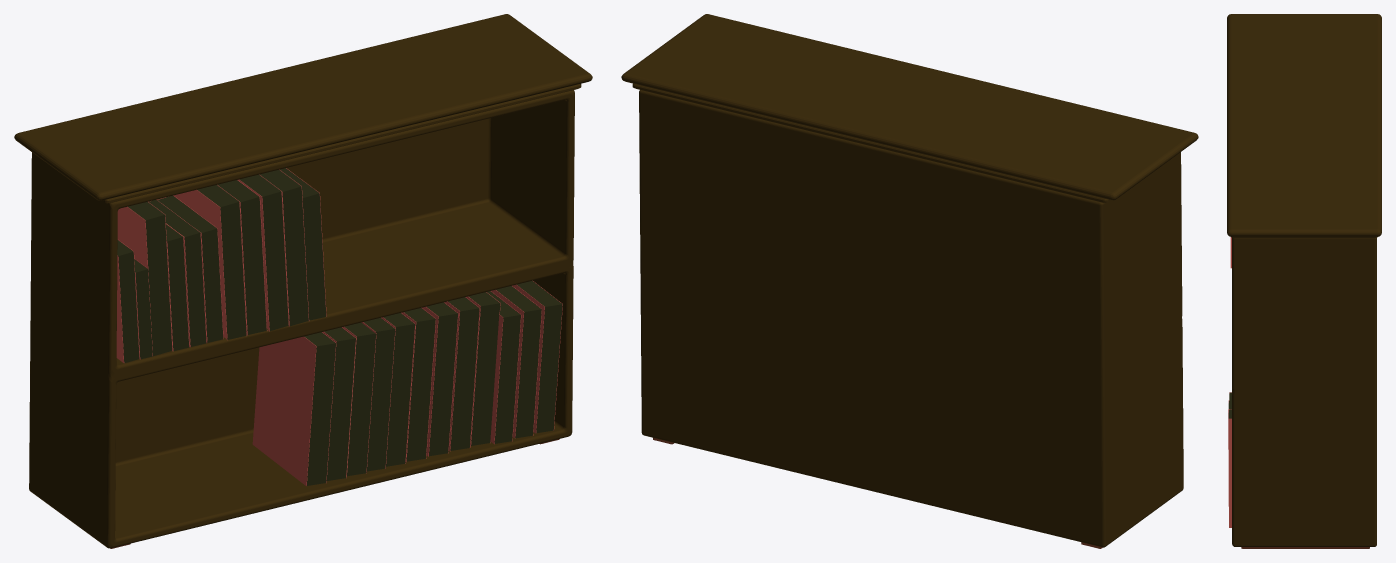
Rendered from bookshelf_active.glb.
3 renders of one model, left to right at view 1: azimuth 30°, elevation 25°; view 2: azimuth 150°, elevation 25°; view 3: azimuth 270°, elevation 25°, orthographic. The views are drawn at different scales.
Visible parts, largest first — view 1: bookshelf_active; view 2: bookshelf_active; view 3: bookshelf_active.
Part boxes in pixels (x1,y1,x2,y2): bookshelf_active: (14,14,592,548); bookshelf_active: (621,14,1198,548); bookshelf_active: (1227,14,1381,548).
Bounding box in the file's own units: 2.22 × 1.56 × 0.6639.
